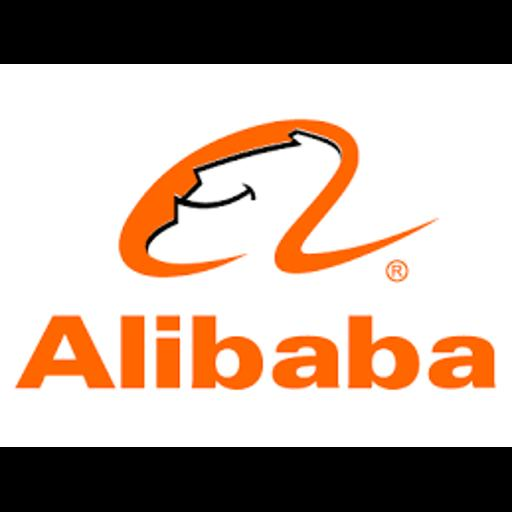Alibaba: (0, 64, 512, 447)
